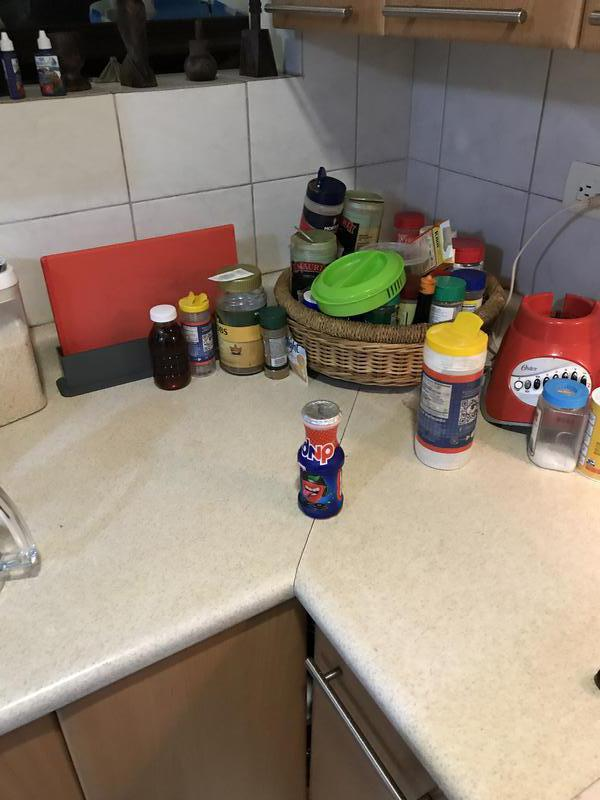danup: (297, 397, 345, 519)
